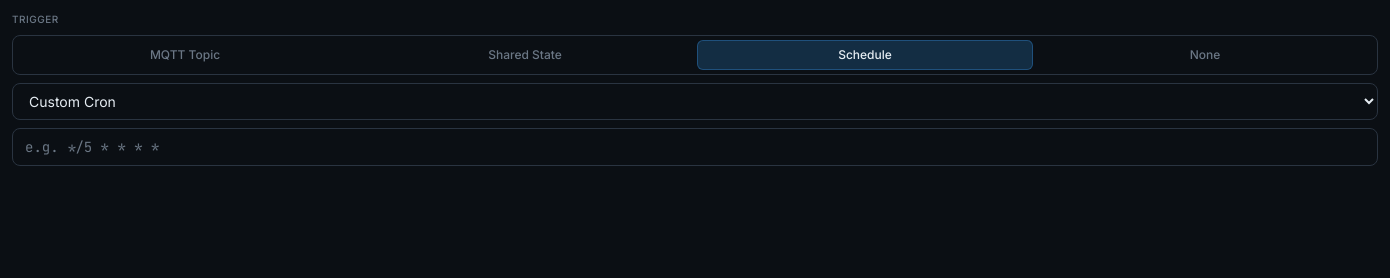
Test: TriggerSelector — CronPicker (Custom Picker) › switches to Daily mode and shows day toggles
The width and height of the screenshot is (1390, 278).
Step 1. Select "Custom Picker" in the dropdown → (695, 102), box 12,83 -> 1378,120
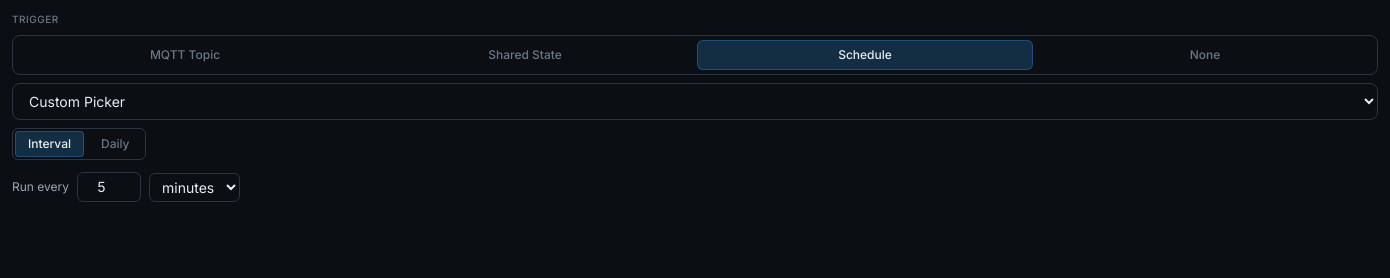
Step 2. Click the button "Daily" → (115, 144), box 88,131 -> 142,157
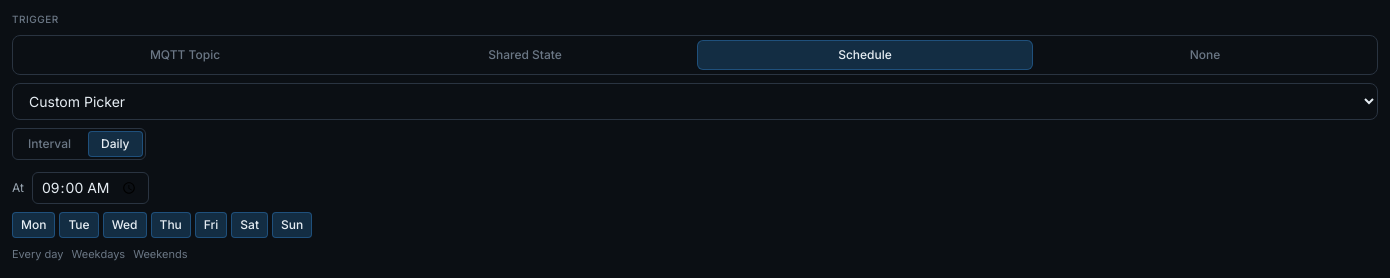
Check: the button "Mon" is shown, box 12,212 -> 55,238
Check: the button "Fri" is shown, box 195,212 -> 227,238
